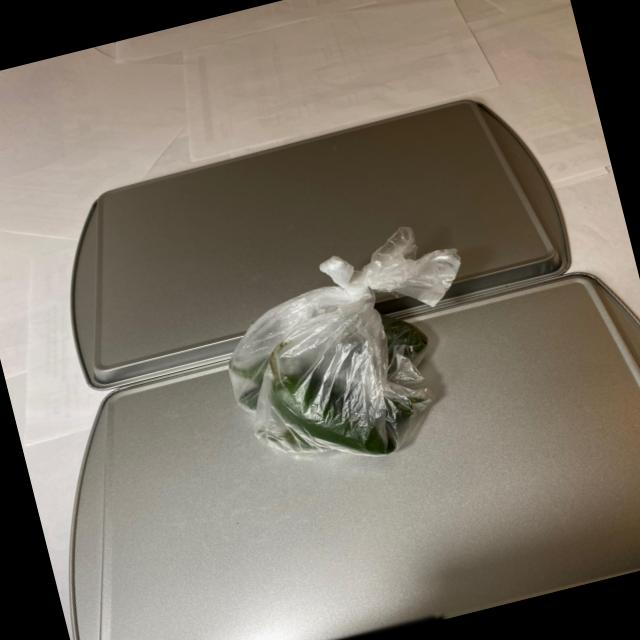chilli: (213, 274, 472, 492)
